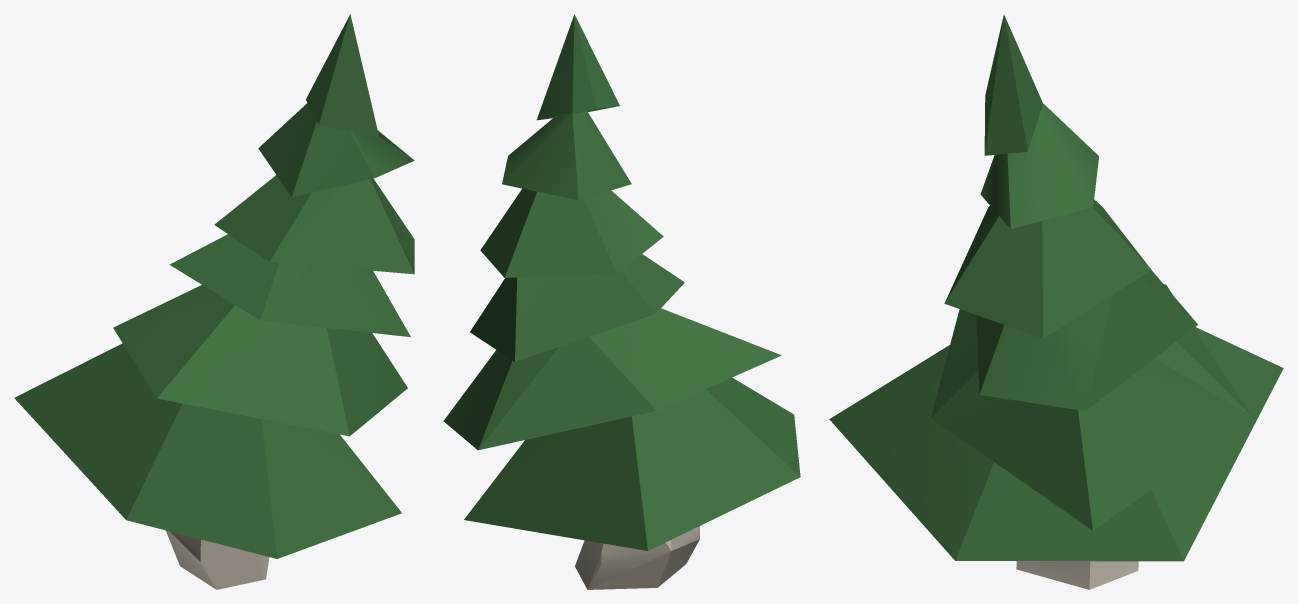
The model's file is Tree_Pine_03.fbx.
3 views of the same model, side by side, from view 1: azimuth 30°, elevation 25°; view 2: azimuth 150°, elevation 25°; view 3: azimuth 270°, elevation 25° (orthographic). The views are drawn at different scales.
Parts seen in each view (by area): view 1: Tree_Pine_04; view 2: Tree_Pine_04; view 3: Tree_Pine_04.
Part boxes in pixels (x1,y1,x2,y2): Tree_Pine_04: (14,14,414,589); Tree_Pine_04: (443,14,800,589); Tree_Pine_04: (829,14,1283,589).
Bounding box in the file's own units: 262 × 416 × 287.
